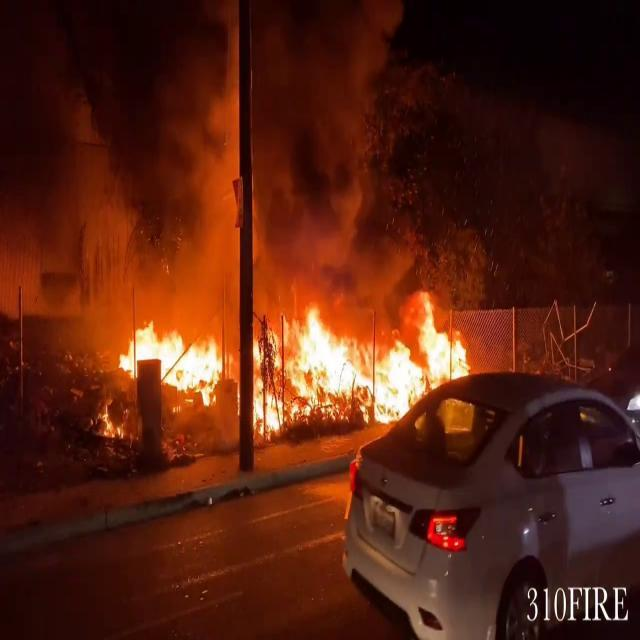Fire: (108, 287, 478, 429)
Smoke: (0, 0, 398, 305)
